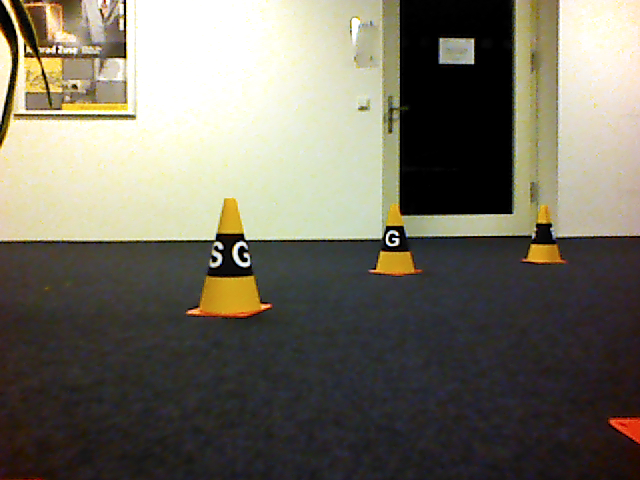yellowcone: (184, 197, 272, 320), (368, 204, 424, 279), (519, 203, 569, 266)
